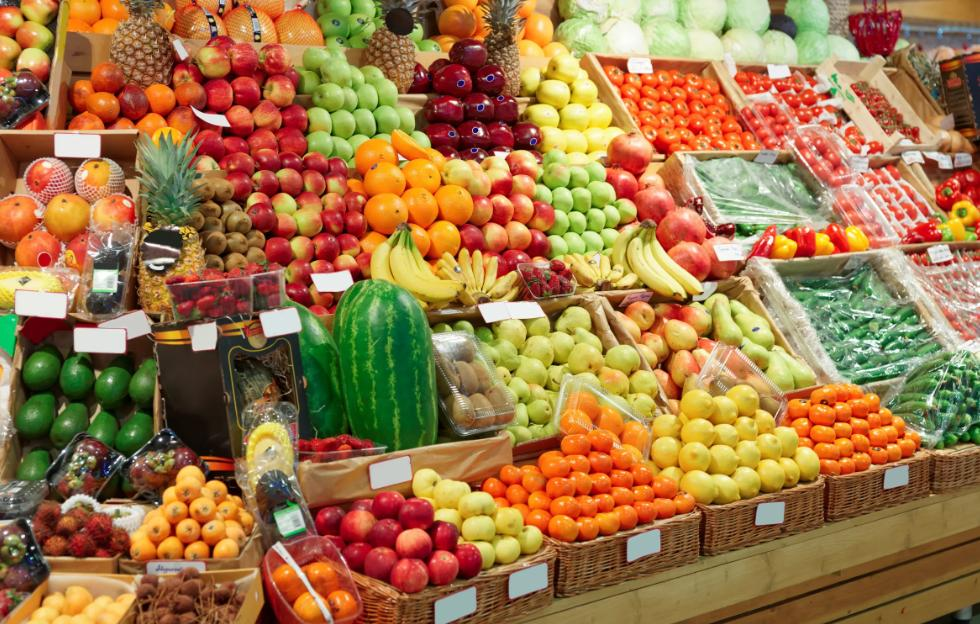banana: (368, 236, 519, 312), (564, 232, 706, 299)
cabbage: (559, 0, 862, 65)
cucumber: (779, 260, 954, 375), (888, 353, 980, 455)
green apple: (296, 50, 432, 154), (534, 156, 620, 256), (320, 0, 442, 52)
lemon: (658, 387, 820, 502)
mandarin: (489, 432, 696, 546), (774, 378, 926, 477), (132, 461, 254, 570)
orange: (356, 136, 462, 252)
pear: (628, 286, 817, 410), (476, 306, 647, 438)
pineapple: (140, 134, 206, 321), (111, 13, 182, 92), (484, 2, 524, 101), (369, 16, 418, 95)
pomegranate: (615, 136, 712, 280)
red apple: (200, 52, 358, 274), (318, 490, 482, 610), (426, 44, 543, 160), (459, 148, 557, 275)
sweet pepper: (909, 170, 980, 248), (774, 226, 866, 260)
tomato: (808, 149, 934, 242), (736, 66, 850, 153), (851, 76, 920, 144)
watermelon: (304, 282, 444, 453)
